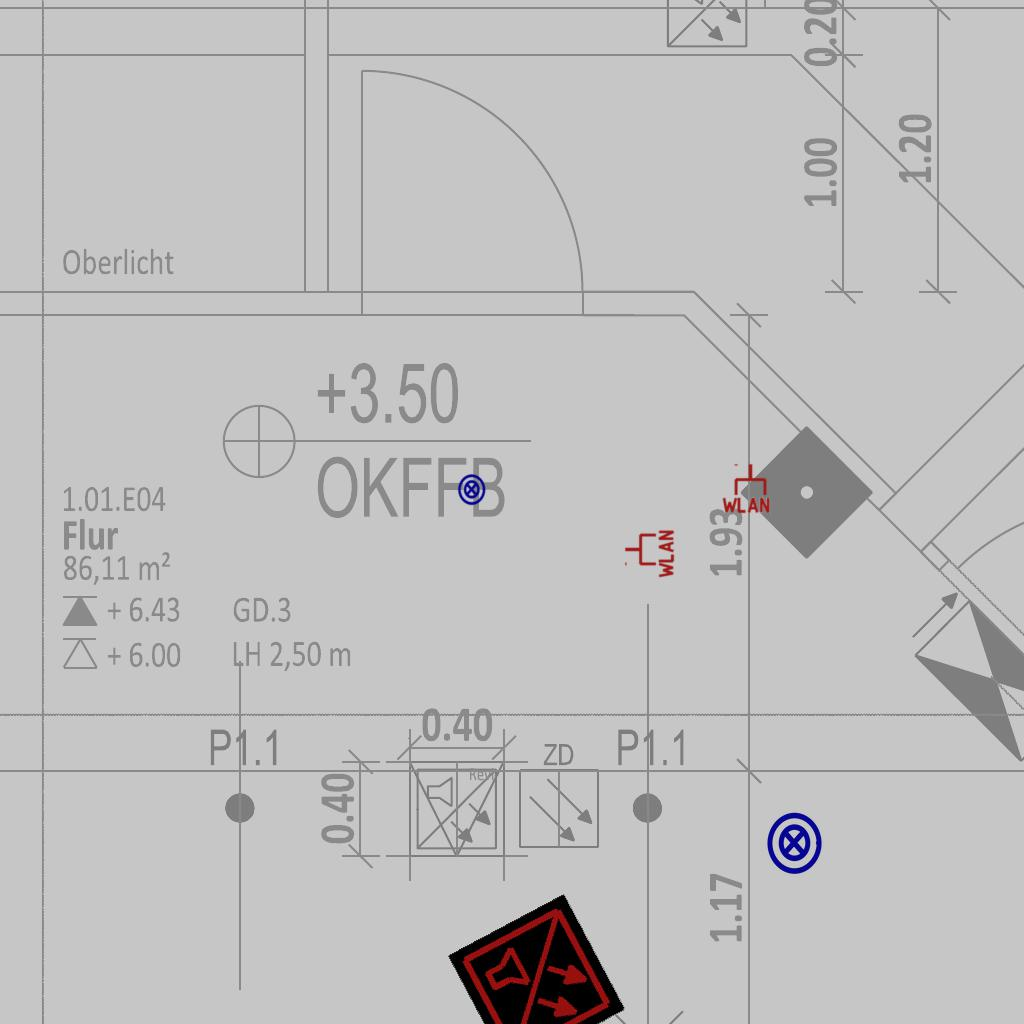OKW_Multisensormelder_(Kombination_optischer_Rauch-Kahlenmonoxid_Waerme-Melder): (447, 893, 627, 1024)
Taster_beleuchtet: (761, 810, 827, 876), (455, 473, 488, 506)
WLAN: (623, 528, 675, 580), (720, 462, 772, 514)
